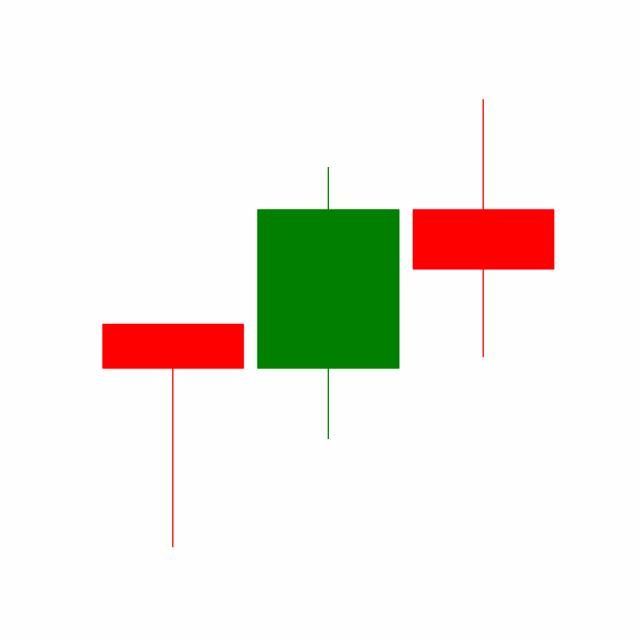Spinning Top: (405, 95, 561, 360)
